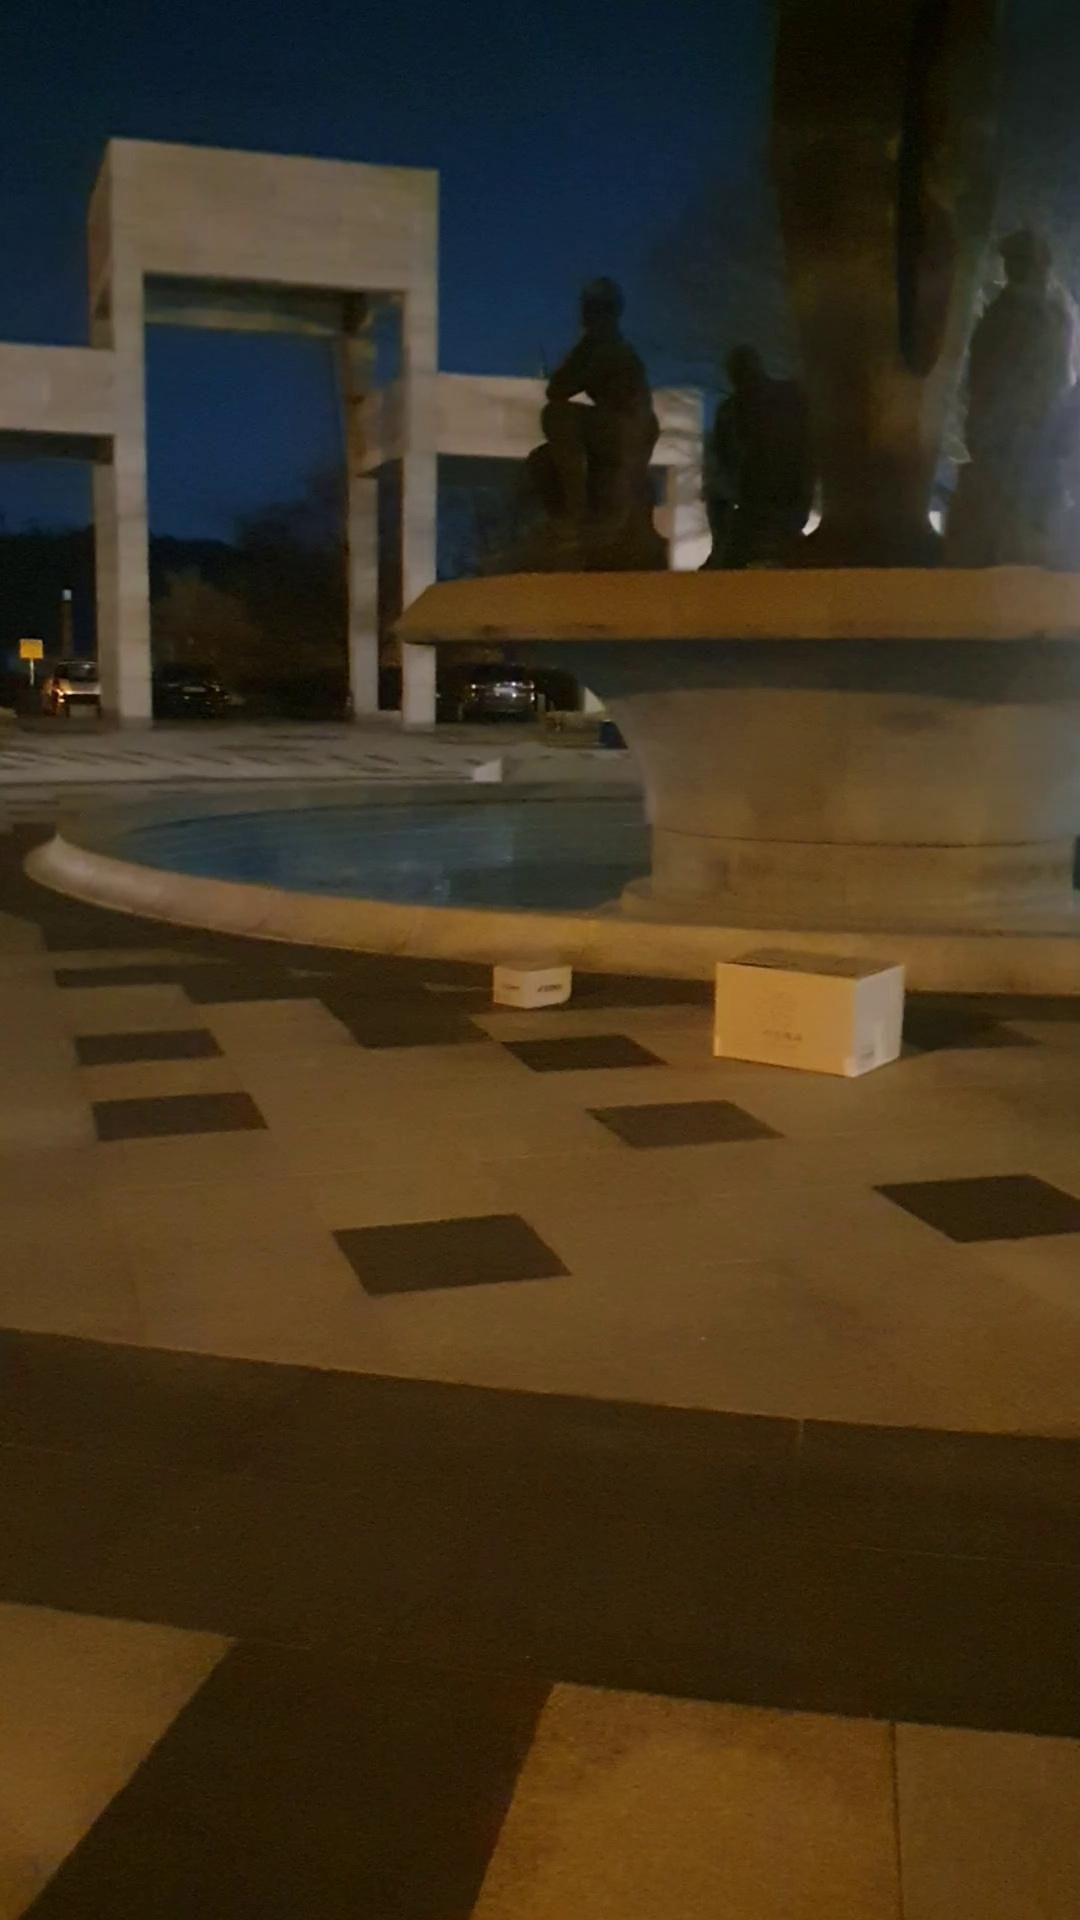Box: (708, 935, 905, 1083), (473, 940, 605, 1025)
